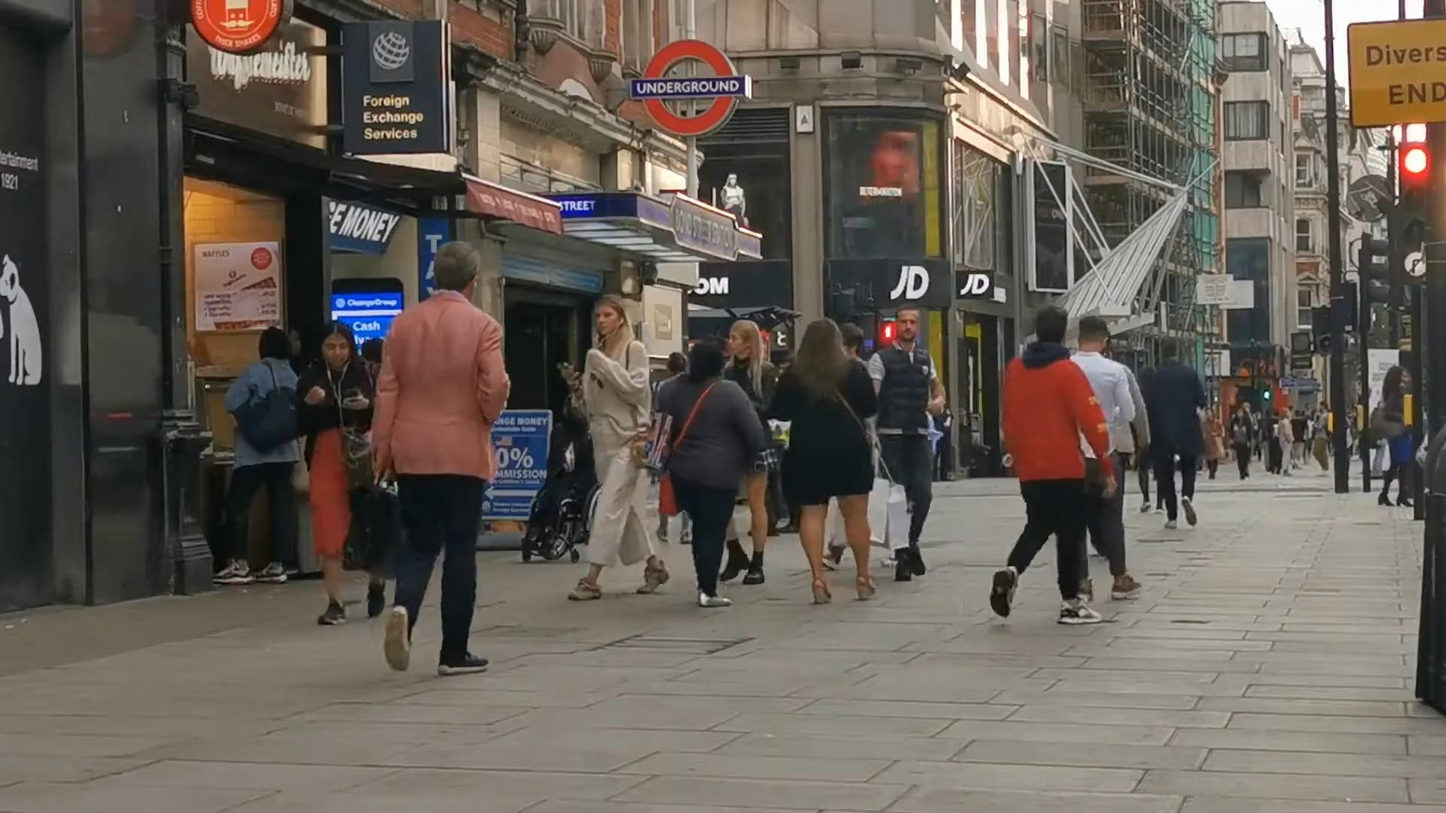no-helmet: (433, 240, 480, 302), (799, 318, 845, 364), (317, 321, 356, 370), (595, 298, 632, 340), (688, 343, 725, 383), (729, 320, 763, 356), (1078, 315, 1109, 352), (1036, 306, 1067, 342), (896, 304, 920, 342)
